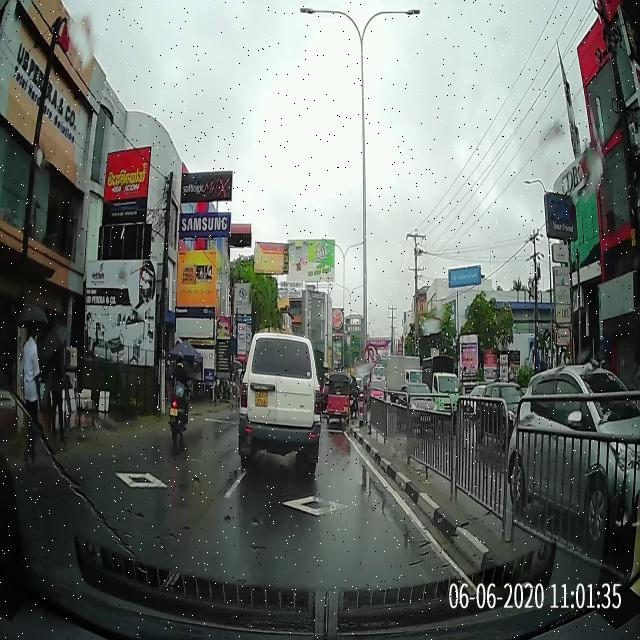diamond: (209, 492, 417, 519)
